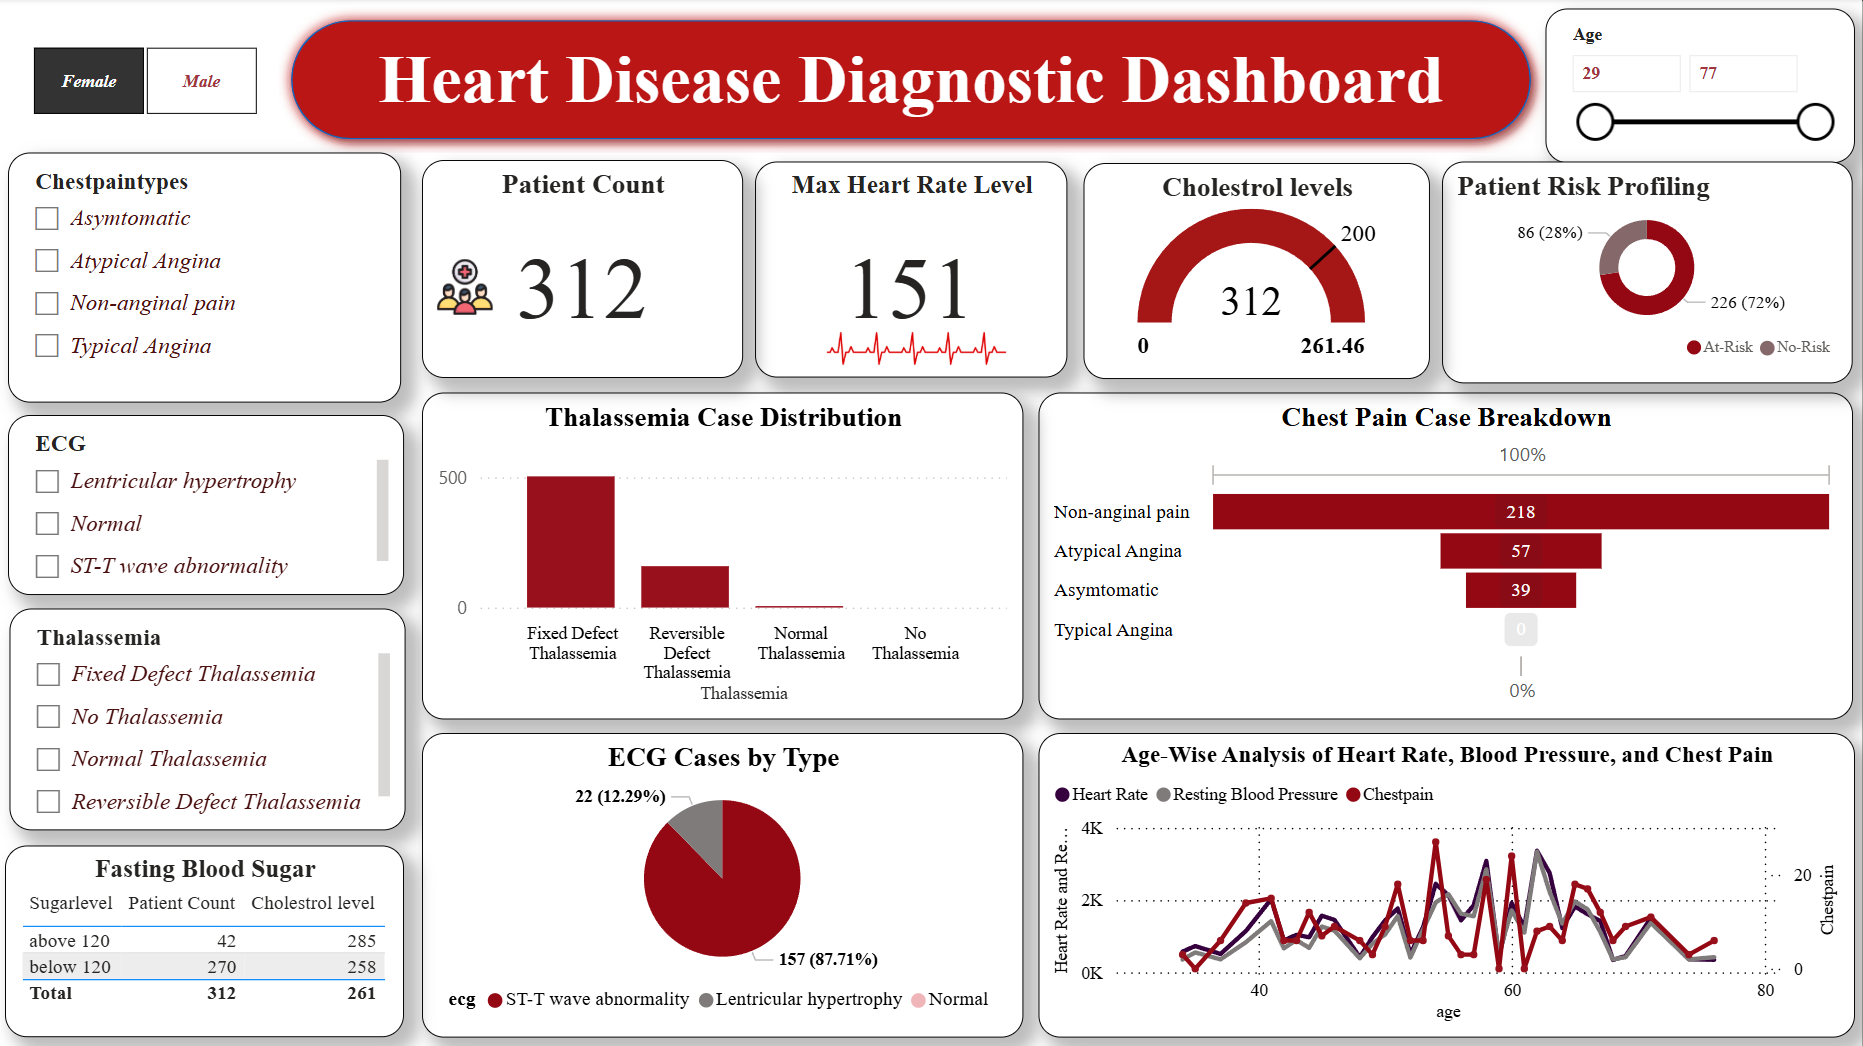

This screenshot's page, from the dashboard's own definition file:
{"tool":"powerbi","page":{"name":"Homepage","canvas":[1280,720],"ordinal":0},"visuals":[{"type":"shape","box":[193.2,6.2,867.3,99.7],"z":0},{"type":"slicer","fields":{"Values":["Heart.age"]},"box":[1061.5,7.2,211.7,105.8],"z":1000},{"type":"slicer","fields":{"Values":["Heart.Gender"]},"box":[0,26.7,202.4,59.6],"z":2000},{"type":"card","title":"Max Heart Rate Level","fields":{"Values":["Avg(Heart.Maxheartrate)"]},"box":[520,112,213.7,148],"z":3000},{"type":"slicer","fields":{"Values":["Heart.Chestpaintypes"]},"box":[8.2,105.8,269.2,171.6],"z":4000},{"type":"slicer","fields":{"Values":["Heart.ecg"]},"box":[8.2,285.7,271.3,123.3],"z":5000},{"type":"slicer","fields":{"Values":["Heart.Thalass"]},"box":[9.2,418.2,271.3,152.1],"z":6000},{"type":"funnel","title":"Chest Pain Case Breakdown","fields":{"Category":["Heart.Chestpaintypes"],"Y":["Sum(Heart.chestpain)"]},"box":[714.2,270.3,558,224],"z":7000},{"type":"columnChart","title":"Thalassemia Case Distribution","fields":{"Category":["Heart.Thalass"],"Y":["Sum(Heart.thalassemia)"]},"box":[291.8,270.3,412.1,224],"z":8000},{"type":"pieChart","title":"ECG Cases by Type","fields":{"Category":["Heart.ecg"],"Y":["Sum(Heart.Restingecg)"]},"box":[291.8,503.5,412.1,208.6],"z":9000},{"type":"card","title":"Patient Count","fields":{"Values":["CountNonNull(Heart.age)"]},"box":[291.8,111,219.9,149],"z":10000},{"type":"donutChart","title":"Patient Risk Profiling","fields":{"Y":["CountNonNull(Heart.Custom.1)"],"Category":["Heart.Custom.1"]},"box":[990.6,112,281.6,152.1],"z":11000},{"type":"lineChart","title":"Age-Wise Analysis of Heart Rate, Blood Pressure, and Chest Pain","fields":{"Y":["Sum(Heart.Maxheartrate)","Sum(Heart.Restingbloodpressure)"],"Category":["Heart.age"],"Y2":["Sum(Heart.chestpain)"]},"box":[714.2,503.5,559,208.6],"z":12000},{"type":"gauge","title":"Cholestrol levels","fields":{"TargetValue":["Heart.Cholesterol_Target"],"MaxValue":["Avg(Heart.cholestrol)"],"Y":["CountNonNull(Heart.age)"]},"box":[745,113,237.4,148],"z":13000},{"type":"tableEx","title":"Fasting Blood Sugar","fields":{"Values":["Heart.sugarlevel","CountNonNull(Heart.age)","Avg(Heart.cholestrol)"]},"box":[6.2,580.6,273.3,131.5],"z":14000},{"type":"image","box":[557,176.7,146.9,126.4],"z":15000},{"type":"image","box":[294.9,173.7,52.4,48.3],"z":16000}]}

Visuals, with their boxes in screenshot pixels (x1, y1, x2, y2), scaled from the page's 1280x720 canvas onto the 1863x1046 screenshot:
shape: detection(281, 9, 1544, 154)
slicer - Heart.age: detection(1545, 10, 1853, 164)
slicer - Heart.Gender: detection(0, 39, 295, 125)
"Max Heart Rate Level" card: detection(757, 163, 1068, 378)
slicer - Heart.Chestpaintypes: detection(12, 154, 404, 403)
slicer - Heart.ecg: detection(12, 415, 407, 594)
slicer - Heart.Thalass: detection(13, 608, 408, 829)
"Chest Pain Case Breakdown" funnel: detection(1039, 393, 1852, 718)
"Thalassemia Case Distribution" columnChart: detection(425, 393, 1025, 718)
"ECG Cases by Type" pieChart: detection(425, 731, 1025, 1035)
"Patient Count" card: detection(425, 161, 745, 378)
"Patient Risk Profiling" donutChart: detection(1442, 163, 1852, 384)
"Age-Wise Analysis of Heart Rate, Blood Pressure, and Chest Pain" lineChart: detection(1039, 731, 1853, 1035)
"Cholestrol levels" gauge: detection(1084, 164, 1430, 379)
"Fasting Blood Sugar" tableEx: detection(9, 843, 407, 1035)
image: detection(811, 257, 1025, 440)
image: detection(429, 252, 505, 323)
